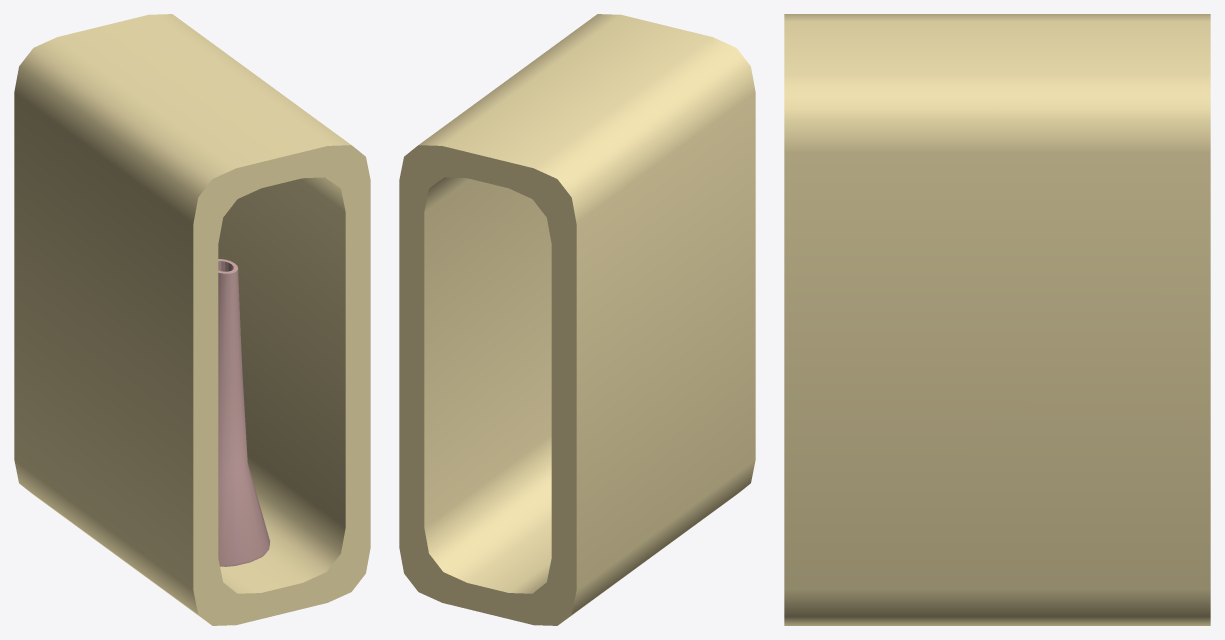
The model's file is Modular_bookshelf_part_3.FBX.
The picture shows the model from 3 angles, left to right: view 1: azimuth 30°, elevation 25°; view 2: azimuth 150°, elevation 25°; view 3: azimuth 270°, elevation 25°; orthographic projection. The views are drawn at different scales.
Visible parts, largest first — view 1: Modular_bookshelf_part_3; view 2: Modular_bookshelf_part_3; view 3: Modular_bookshelf_part_3.
Boxes of the visible parts, x1,y1,x2,y2 form: Modular_bookshelf_part_3: [14, 14, 370, 625]; Modular_bookshelf_part_3: [399, 14, 755, 625]; Modular_bookshelf_part_3: [784, 14, 1210, 625].
Size of the model in its own units: 13.04 by 32.13 by 22.83.
1 material, 1 textured.
